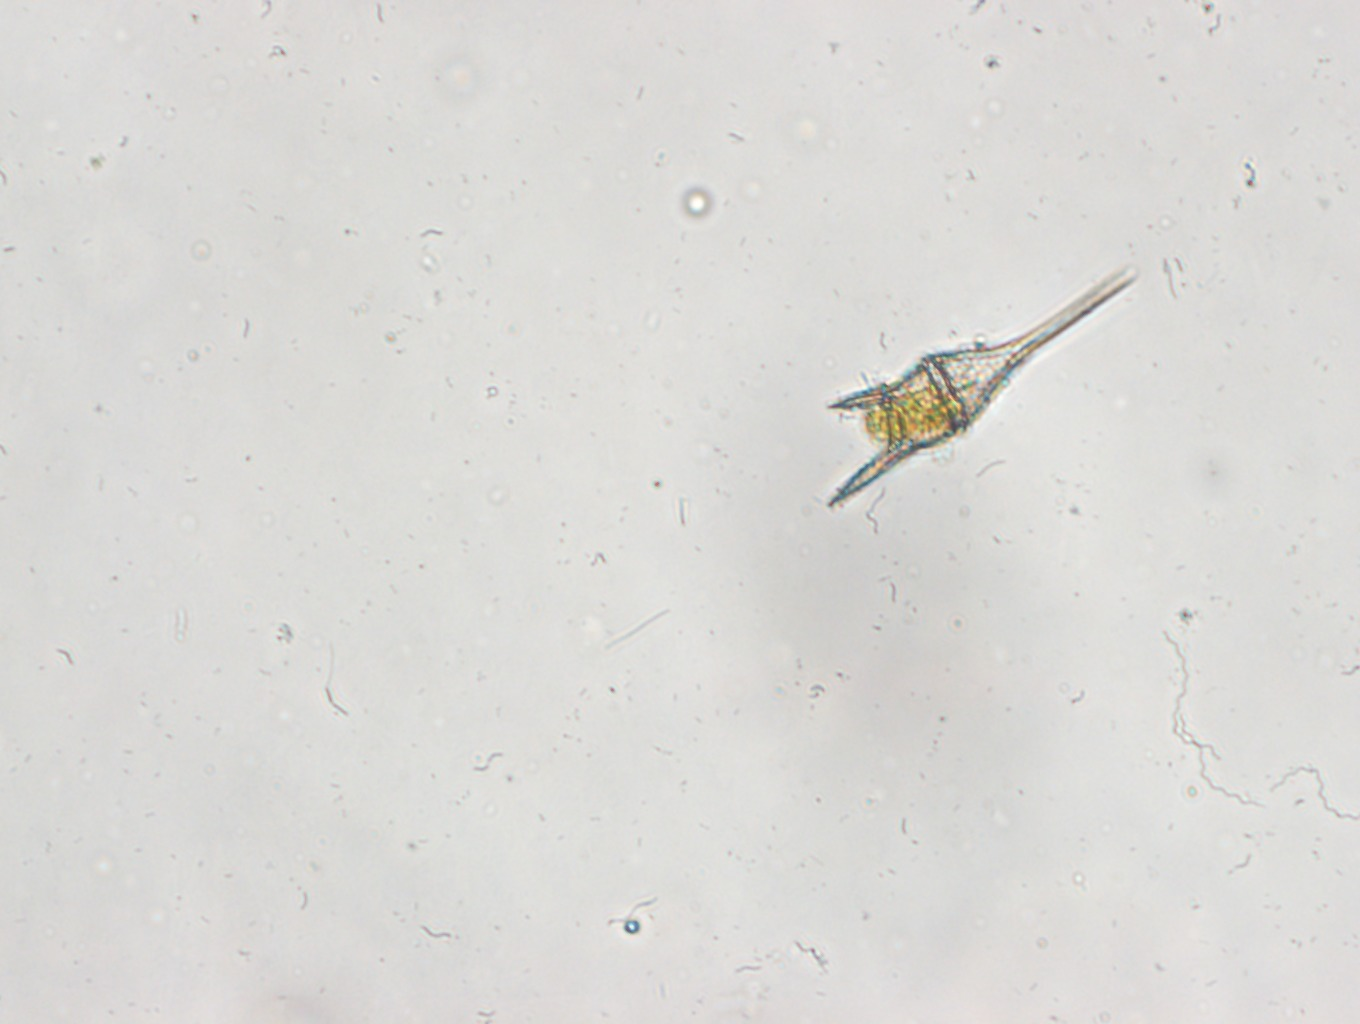ceratium furca: (805, 257, 1149, 512)
